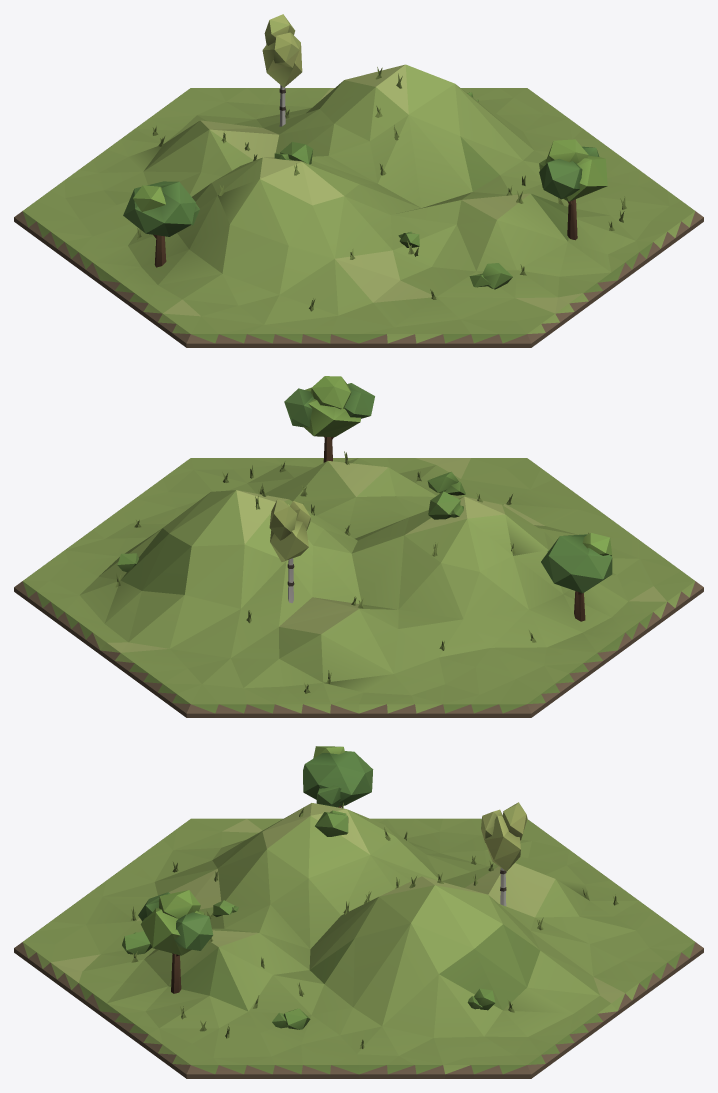
File: hills_c.glb
3 views of the same model, one above another, from view 1: azimuth 30°, elevation 25°; view 2: azimuth 150°, elevation 25°; view 3: azimuth 270°, elevation 25° (orthographic).
Visible parts, largest first — view 1: hills_c; view 2: hills_c; view 3: hills_c.
Part boxes in pixels (x1,y1,x2,y2): hills_c: (14,14,703,347); hills_c: (14,376,703,717); hills_c: (14,746,703,1078).
Bounding box in the file's own units: 17.32 × 4.77 × 20.
